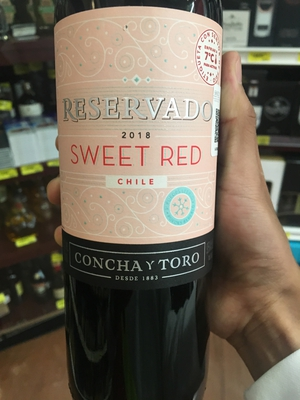reservado sweet red: (52, 3, 233, 379)
